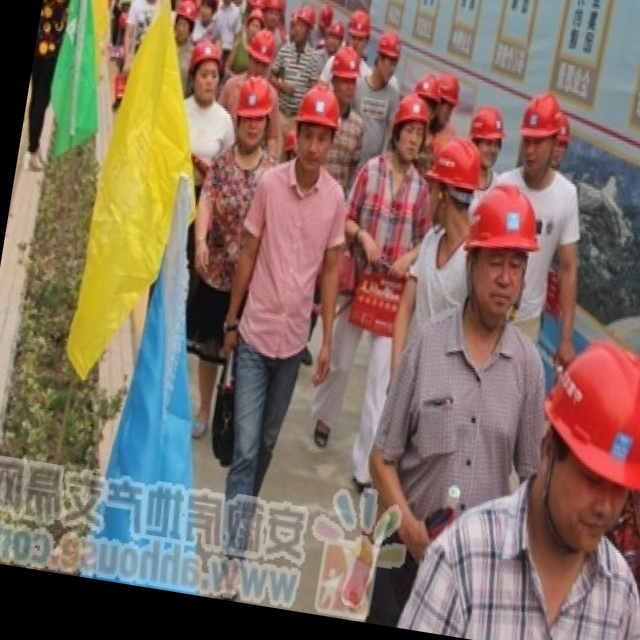Con_Casco: (453, 183, 543, 327)
Sin_Chaleco: (524, 338, 640, 550), (234, 158, 351, 355)
